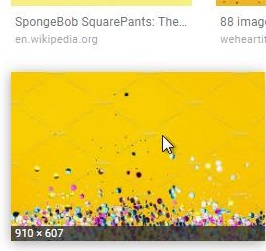cursor: (160, 133, 175, 155)
